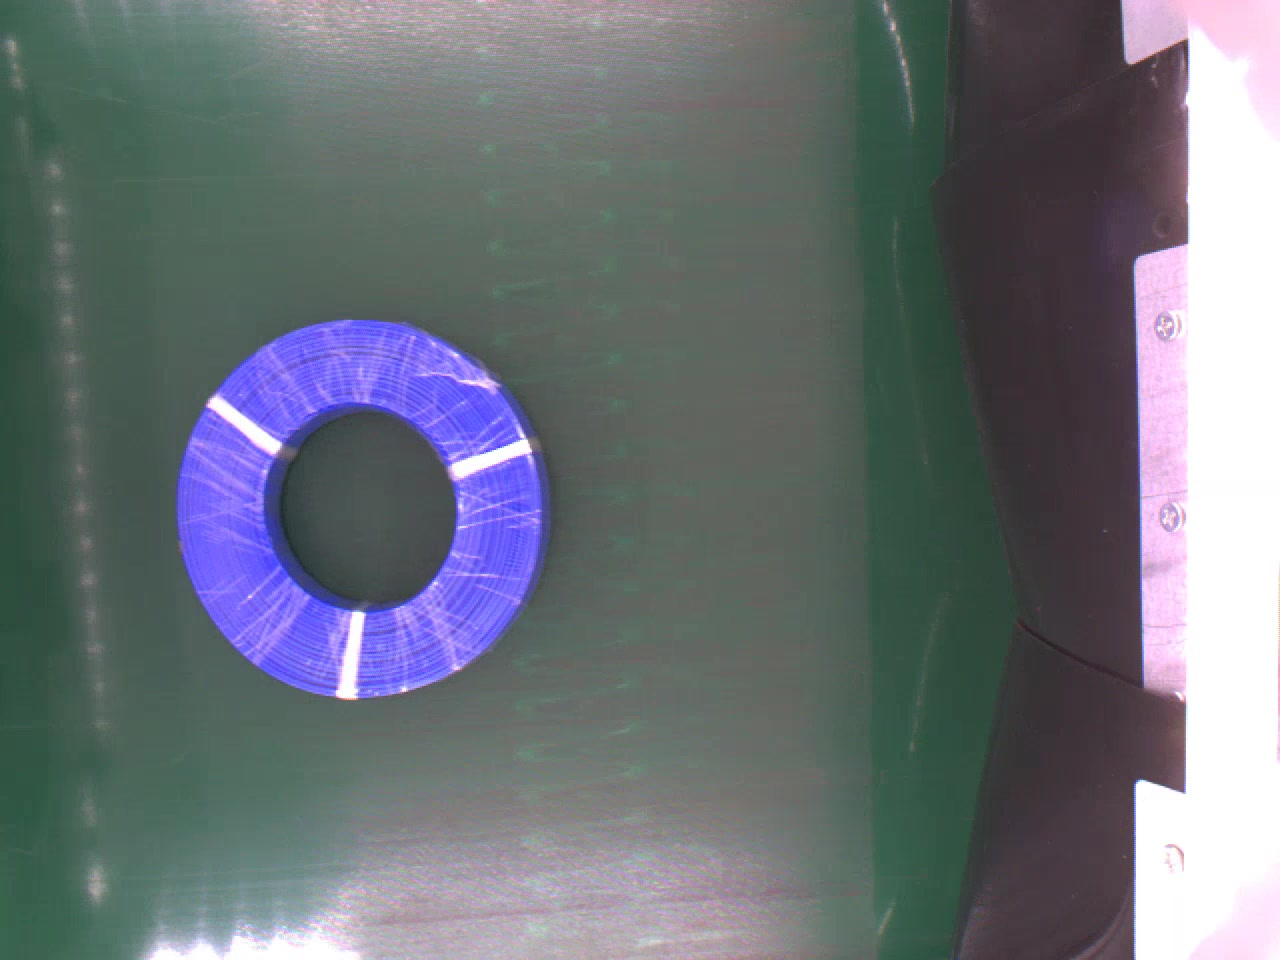blue: (169, 314, 551, 697)
